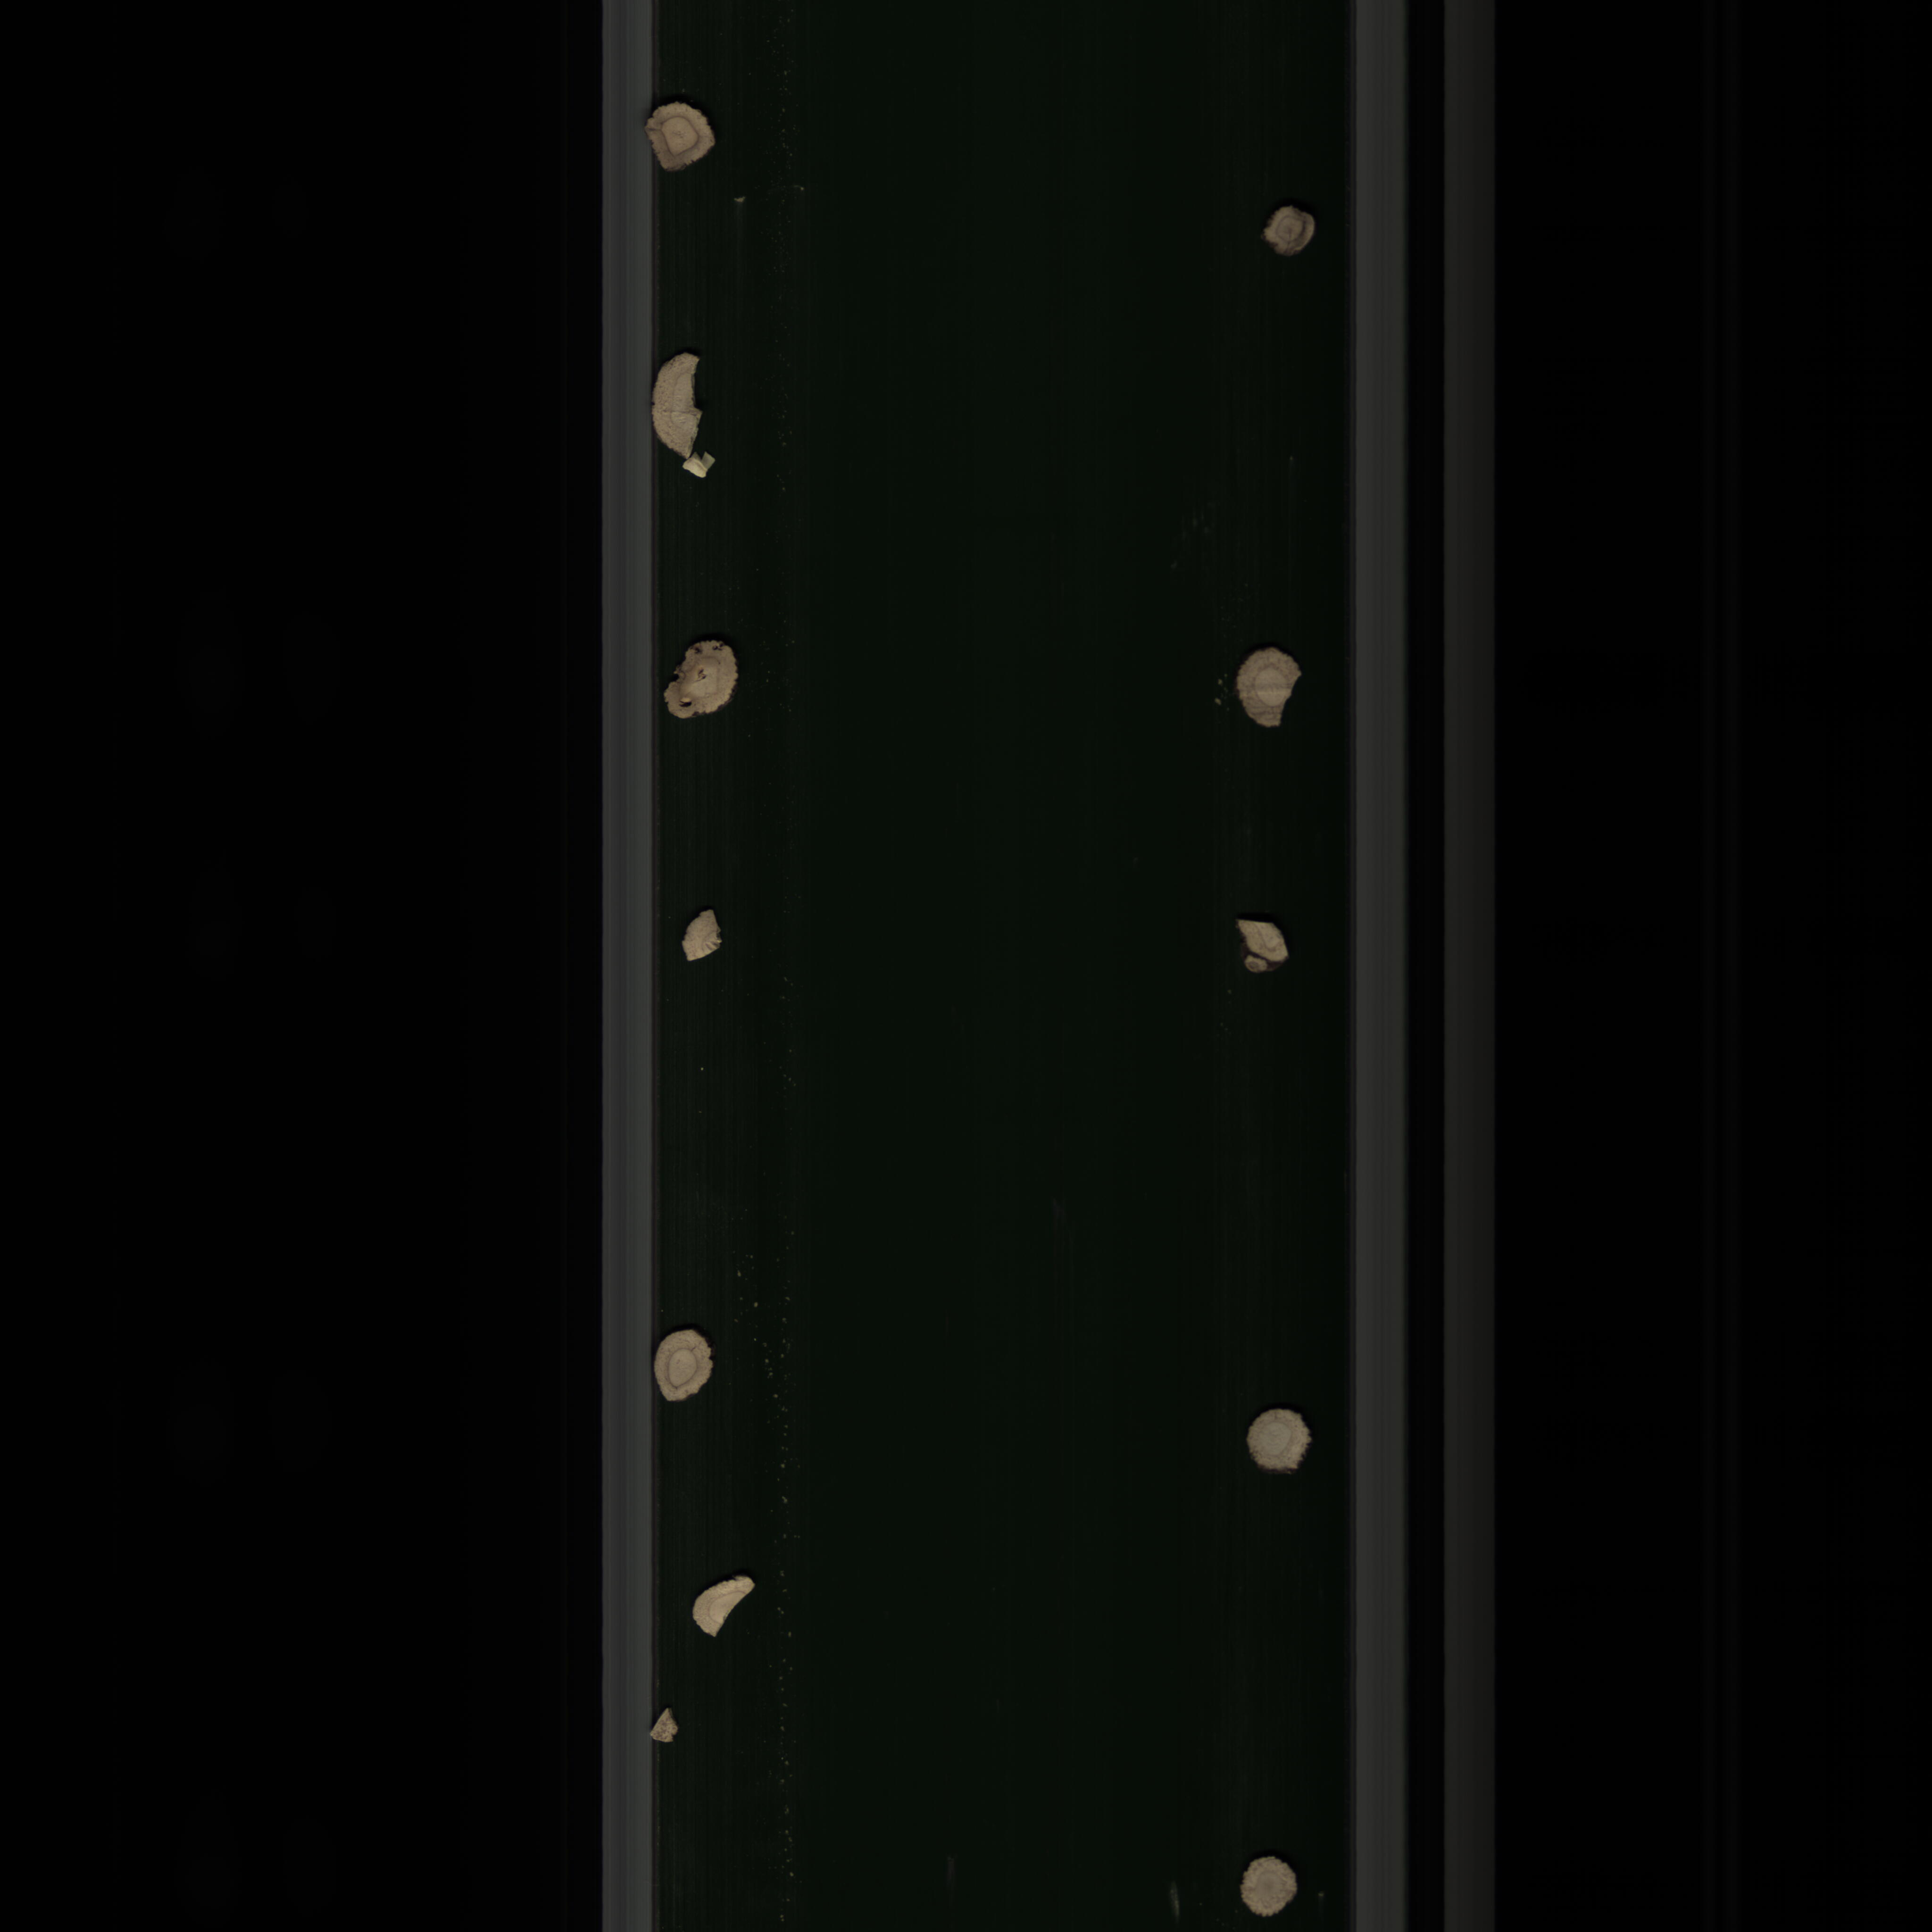debris: (648, 340, 734, 492), (1233, 633, 1307, 736), (1228, 909, 1297, 980), (678, 1580, 759, 1637), (669, 908, 729, 964), (648, 1707, 683, 1750)
hole: (663, 633, 748, 722)
moldy: (644, 96, 725, 175), (1258, 203, 1318, 257)
